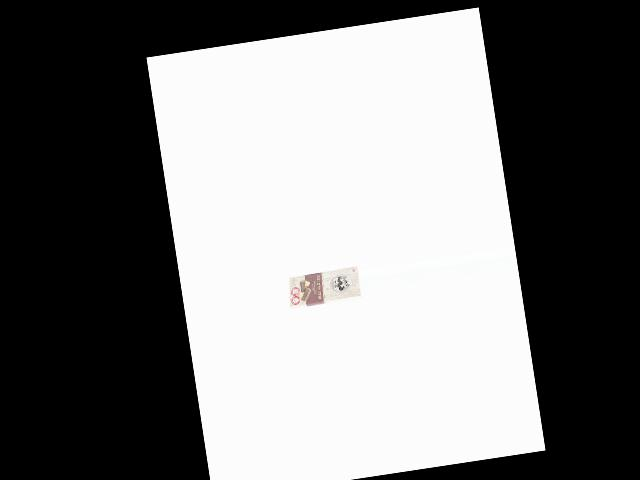chocolate: (284, 265, 363, 314)
